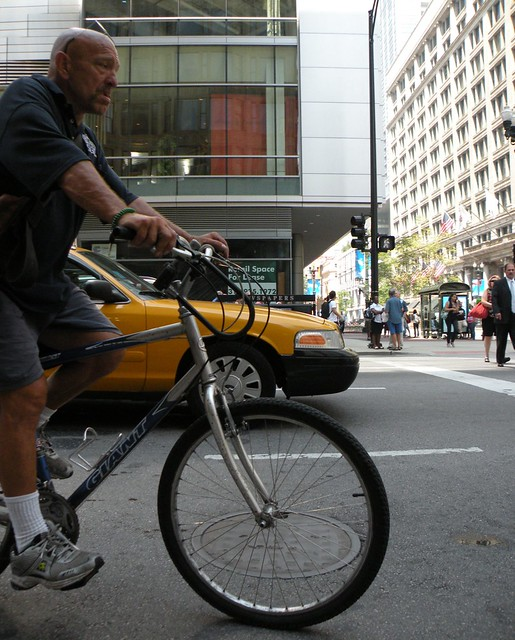backpack: (0, 249, 368, 618), (486, 269, 514, 368), (470, 282, 503, 328), (476, 285, 497, 350), (467, 290, 493, 342), (469, 298, 497, 329), (492, 283, 511, 326), (487, 281, 505, 322), (499, 274, 514, 321), (365, 300, 381, 342), (466, 300, 485, 335), (479, 282, 495, 320), (322, 294, 341, 325), (326, 304, 345, 333), (484, 278, 499, 313), (370, 299, 385, 334), (480, 311, 495, 345), (467, 301, 489, 322), (477, 296, 492, 326), (489, 296, 504, 325), (482, 300, 500, 324), (361, 303, 373, 338), (384, 300, 402, 321), (492, 306, 510, 326), (364, 301, 381, 321)
bench: (0, 44, 263, 586), (17, 315, 395, 624), (10, 203, 382, 504), (50, 231, 356, 400), (70, 210, 182, 256), (73, 215, 134, 258), (75, 212, 113, 252), (76, 227, 119, 258), (440, 300, 463, 348), (434, 322, 476, 347), (436, 316, 467, 336)
bicycle: (0, 65, 262, 610), (10, 242, 381, 615), (108, 327, 453, 601), (10, 379, 328, 585), (38, 245, 290, 503), (21, 173, 185, 562), (44, 239, 358, 403), (54, 296, 335, 442), (0, 213, 121, 551), (56, 337, 220, 539), (52, 370, 311, 496), (26, 259, 218, 422), (1, 338, 89, 575), (149, 243, 237, 302), (200, 253, 271, 304), (437, 304, 460, 348), (467, 303, 481, 342), (442, 318, 458, 348), (429, 317, 448, 342), (406, 310, 421, 339), (437, 318, 453, 344), (425, 320, 441, 340), (419, 320, 435, 340)
bus: (418, 284, 470, 323), (430, 289, 466, 336), (433, 282, 469, 308)
car: (0, 150, 234, 611), (10, 257, 371, 541), (7, 69, 276, 441), (46, 246, 358, 406), (54, 216, 248, 452), (38, 221, 304, 355), (34, 249, 211, 400), (199, 251, 395, 381), (43, 305, 269, 412), (164, 284, 359, 402), (101, 241, 337, 331), (66, 244, 252, 315), (159, 244, 304, 310), (81, 222, 236, 281), (372, 286, 478, 339), (340, 292, 439, 345), (64, 249, 161, 303), (257, 302, 352, 355), (396, 282, 460, 331), (449, 281, 515, 328), (67, 263, 132, 304), (437, 286, 493, 323), (418, 284, 470, 323), (376, 290, 407, 351), (456, 289, 491, 342), (430, 289, 466, 336), (226, 266, 274, 300), (466, 286, 495, 326), (362, 301, 386, 349), (355, 308, 393, 337), (432, 312, 470, 338), (401, 298, 440, 323), (385, 299, 423, 324), (400, 297, 426, 333), (463, 300, 486, 336), (274, 296, 314, 316), (286, 299, 318, 318), (465, 301, 490, 321), (403, 303, 418, 336), (292, 294, 316, 314), (393, 299, 421, 315), (404, 302, 431, 318), (436, 283, 469, 296), (402, 299, 419, 321), (267, 298, 295, 311), (399, 298, 410, 328), (469, 278, 482, 301)
cell phone: (82, 280, 124, 305)
chair: (10, 289, 386, 626), (95, 211, 231, 257), (74, 207, 144, 258), (229, 263, 274, 301), (422, 319, 437, 340)
fire hydrant: (71, 260, 380, 617)
handbag: (17, 315, 395, 624), (486, 269, 514, 368), (476, 285, 497, 350), (383, 290, 404, 350), (468, 292, 493, 337), (481, 279, 501, 334), (363, 298, 384, 350), (476, 298, 502, 330), (492, 283, 511, 326), (487, 281, 505, 322), (498, 279, 514, 324), (443, 295, 458, 343), (466, 300, 485, 335), (472, 293, 495, 320), (323, 293, 340, 326), (326, 304, 345, 333), (472, 303, 495, 326), (484, 278, 499, 313), (480, 311, 495, 345), (386, 298, 400, 334), (368, 309, 386, 337), (364, 304, 382, 331), (465, 302, 477, 342), (376, 302, 390, 336), (447, 301, 463, 330), (468, 301, 490, 322), (473, 315, 492, 338), (489, 296, 504, 325), (482, 300, 500, 324), (362, 303, 373, 341), (468, 311, 481, 342), (480, 284, 492, 317), (382, 297, 395, 327), (399, 301, 410, 334), (367, 301, 385, 321), (492, 306, 510, 326), (357, 309, 371, 334), (375, 302, 392, 321), (489, 311, 506, 330), (362, 301, 376, 322), (480, 319, 497, 335)
horse: (0, 220, 382, 591)
kite: (468, 301, 491, 322)
motorcycle: (10, 257, 371, 541), (7, 69, 276, 441), (44, 239, 358, 403), (362, 301, 386, 349), (325, 302, 344, 333)
person: (0, 8, 415, 565), (0, 28, 220, 600), (12, 208, 328, 606), (24, 169, 337, 428), (37, 39, 247, 370), (15, 242, 228, 537), (4, 116, 136, 583), (80, 233, 284, 441), (34, 203, 174, 447), (33, 286, 161, 552), (1, 244, 118, 466), (108, 147, 236, 348), (1, 294, 90, 569), (90, 142, 232, 258), (0, 329, 56, 489), (91, 223, 241, 282), (96, 210, 229, 258), (148, 241, 233, 302), (369, 286, 415, 351), (201, 248, 255, 302), (468, 278, 511, 345), (486, 267, 513, 368), (218, 256, 273, 302), (477, 273, 504, 366), (418, 284, 470, 323), (432, 286, 465, 344), (468, 289, 492, 355), (382, 290, 407, 353), (495, 289, 515, 367), (199, 244, 240, 279), (490, 275, 512, 338), (466, 279, 493, 328), (371, 291, 394, 348), (476, 284, 497, 344), (327, 290, 351, 338), (318, 298, 342, 344), (184, 233, 229, 257), (442, 293, 461, 348), (364, 298, 384, 350), (393, 296, 414, 345), (481, 277, 501, 328), (465, 295, 486, 340), (445, 303, 468, 344), (456, 299, 480, 338), (431, 303, 452, 347), (479, 307, 495, 364), (404, 305, 429, 339), (325, 308, 347, 346), (499, 262, 515, 313), (355, 289, 371, 340), (470, 307, 493, 340), (437, 295, 458, 331), (322, 292, 342, 328), (361, 301, 376, 346), (487, 277, 504, 313), (479, 282, 495, 320), (325, 302, 344, 333), (362, 294, 383, 322), (403, 301, 419, 337), (466, 301, 489, 326), (319, 299, 336, 332), (449, 296, 462, 339), (290, 295, 315, 316), (364, 304, 382, 331), (465, 302, 477, 342), (442, 318, 458, 348), (318, 292, 335, 320), (433, 300, 445, 339), (477, 296, 492, 326), (440, 310, 452, 347), (439, 300, 451, 337), (468, 289, 484, 316), (485, 276, 499, 306), (335, 292, 348, 324), (445, 294, 463, 317), (468, 311, 481, 342), (340, 301, 353, 332), (454, 305, 466, 338), (316, 296, 330, 324), (323, 289, 338, 314), (359, 304, 370, 338), (399, 304, 410, 338), (460, 297, 472, 328), (430, 307, 441, 339), (461, 308, 472, 340), (430, 294, 441, 326), (501, 262, 514, 289), (452, 295, 466, 320), (465, 297, 479, 322), (420, 309, 431, 340), (333, 307, 346, 333), (412, 312, 424, 340), (408, 309, 419, 339), (310, 292, 322, 318), (469, 275, 482, 299), (306, 292, 318, 317), (304, 272, 316, 297), (362, 301, 376, 322), (423, 318, 436, 340), (440, 213, 452, 236)
sports ball: (468, 301, 490, 322)
suitcase: (468, 301, 490, 322)
tennis racket: (17, 315, 395, 624), (10, 203, 382, 504), (0, 150, 234, 611), (36, 244, 356, 417), (32, 378, 187, 528)
traffic light: (343, 212, 371, 261), (347, 222, 389, 252), (348, 219, 368, 278), (368, 206, 391, 252), (357, 231, 395, 254), (349, 216, 367, 252), (374, 221, 394, 253), (376, 200, 389, 236), (359, 230, 377, 254), (366, 224, 381, 252), (372, 233, 391, 255), (360, 220, 372, 252), (353, 252, 366, 280), (470, 271, 482, 297), (377, 236, 394, 252)
truck: (10, 257, 371, 541), (46, 240, 363, 407), (386, 285, 471, 335), (418, 284, 470, 323), (430, 289, 466, 336), (271, 295, 316, 316)
umbrella: (437, 289, 467, 336), (431, 290, 471, 316), (433, 282, 468, 307), (468, 301, 491, 322), (443, 294, 462, 319), (443, 292, 467, 311), (436, 283, 469, 296)
wine glass: (0, 249, 368, 618)
